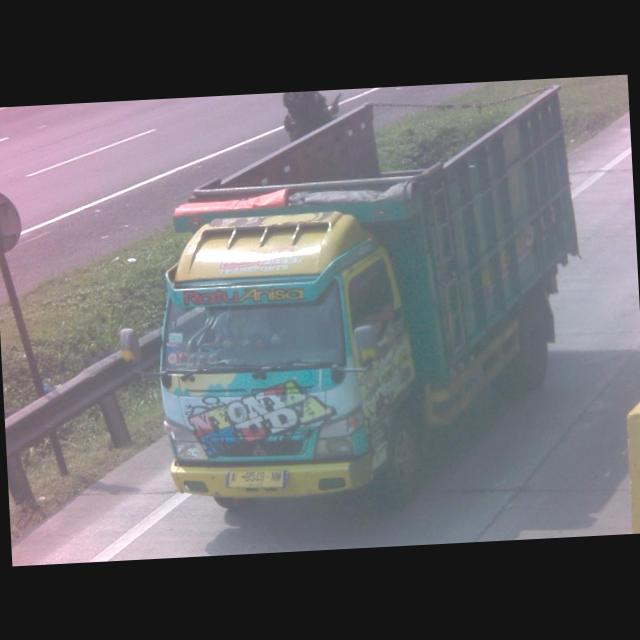plate: (228, 466, 286, 492)
